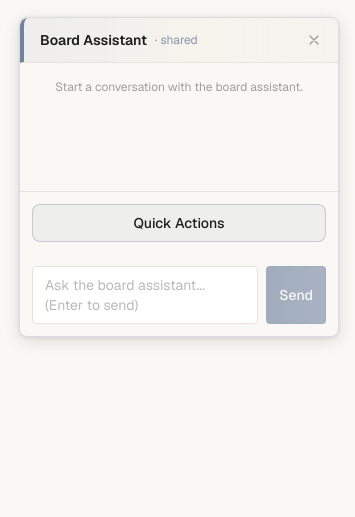
Test: GlobalAgentPanel › removes pill when X clicked
What coordinates should you click on to do the following:
click the button with test id "quick-actions-trigger"
I would click on:
 (179, 223)
Its box is [32,204,326,242].
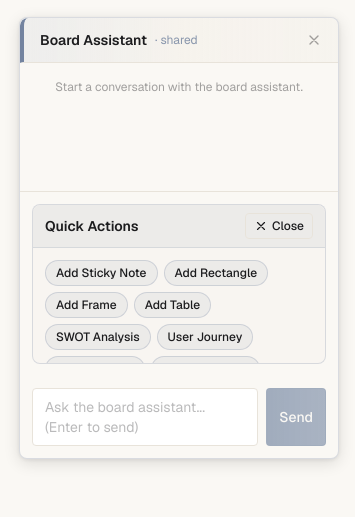
What coordinates should you click on to do the following:
click the menu item "Add Sticky Note"
I would click on:
 (101, 273)
Its box is [45,260,158,286].
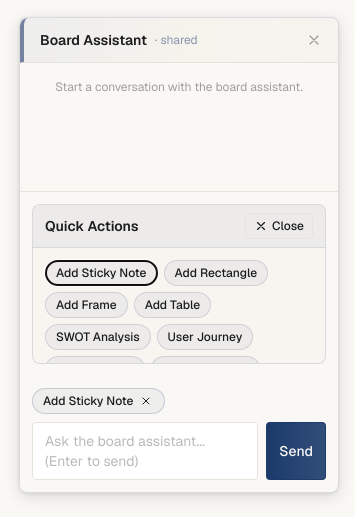
What coordinates should you click on to do the following:
click the button with test id "quick-actions-close"
I would click on:
 (279, 226)
Its box is [245,213,313,239].
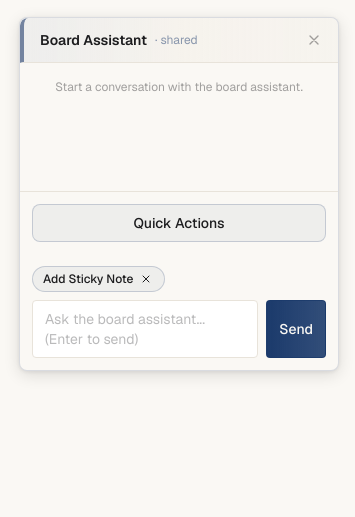
Check: the text "Add Sticky Note" is shown, box [32,266,164,292]
What coordinates should you click on to do the following:
click the button named "remove add sticky note"
I would click on:
 (146, 279)
Its box is [138,271,154,287].
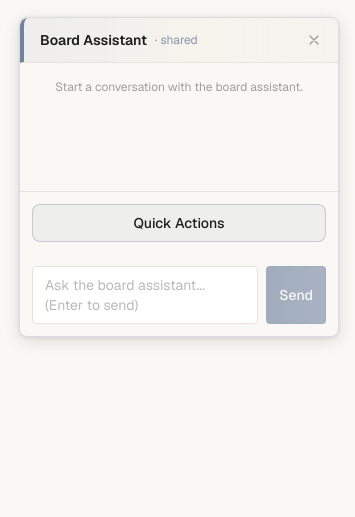
Check: the text "Add Sticky Note" is gone
